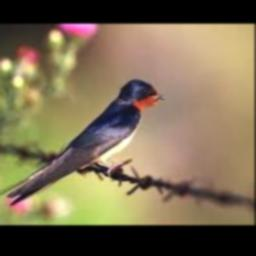Swallow: (0, 80, 166, 206)
